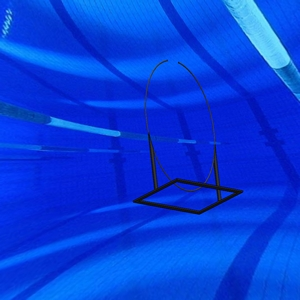circle: (132, 58, 245, 216)
